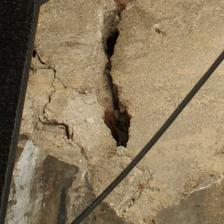Crack: (0, 0, 108, 83), (78, 6, 152, 105)
